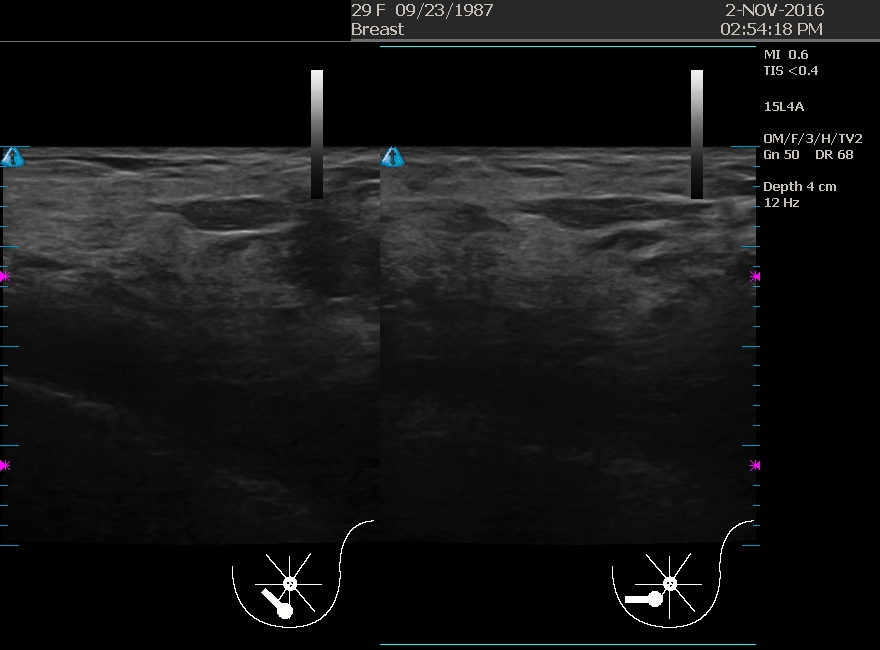BIRADS_3: (109, 151, 309, 351), (488, 186, 688, 386)
